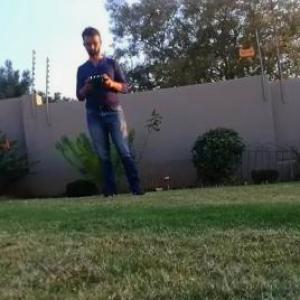follow: (74, 17, 153, 200)
